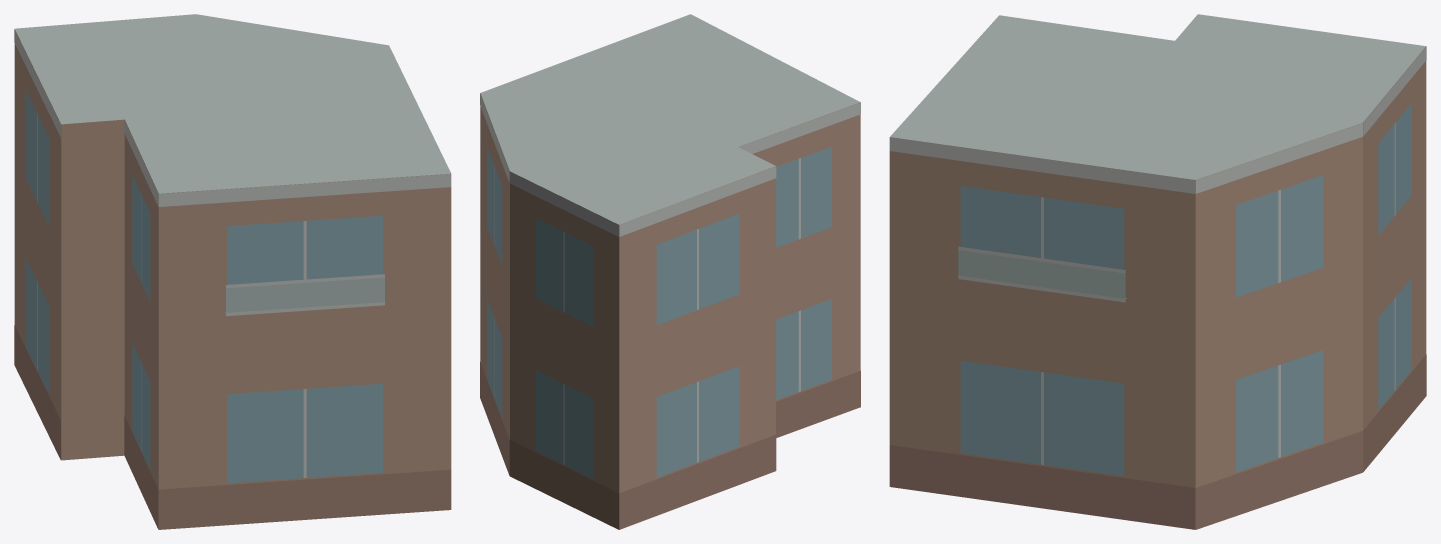
File: survey-upis-32500570.glb
3 views of the same model, side by side, from view 1: azimuth 30°, elevation 25°; view 2: azimuth 150°, elevation 25°; view 3: azimuth 270°, elevation 25° (orthographic). The views are drawn at different scales.
Visible parts, largest first — view 1: survey-upis-32500570.tmp; view 2: survey-upis-32500570.tmp; view 3: survey-upis-32500570.tmp.
Part boxes in pixels (left/top/right/bottom): survey-upis-32500570.tmp: left=14, top=14, right=451, bottom=529; survey-upis-32500570.tmp: left=480, top=14, right=860, bottom=529; survey-upis-32500570.tmp: left=889, top=14, right=1426, bottom=529.
Bounding box in the file's own units: 6.22 × 6.1 × 8.49.
